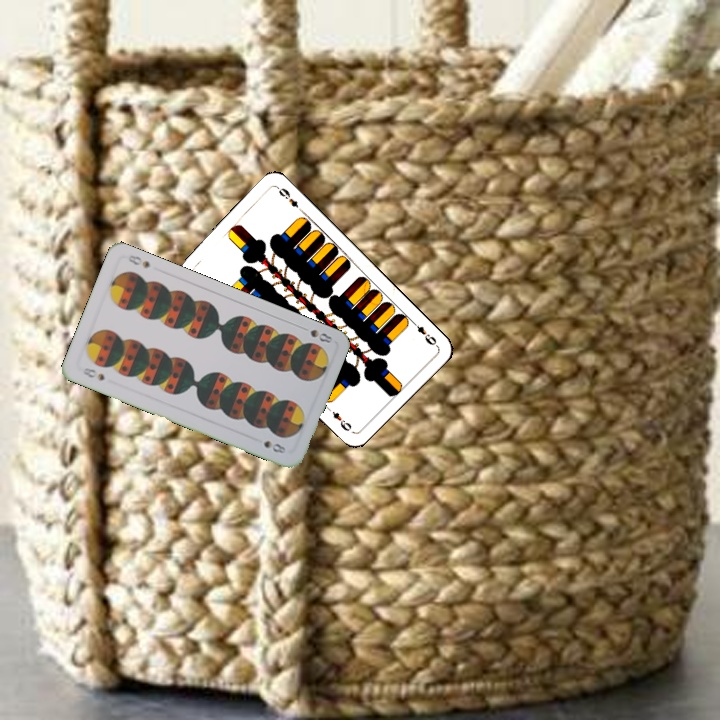E9: (408, 316, 440, 348)
S8: (296, 322, 335, 346), (78, 364, 107, 383)
